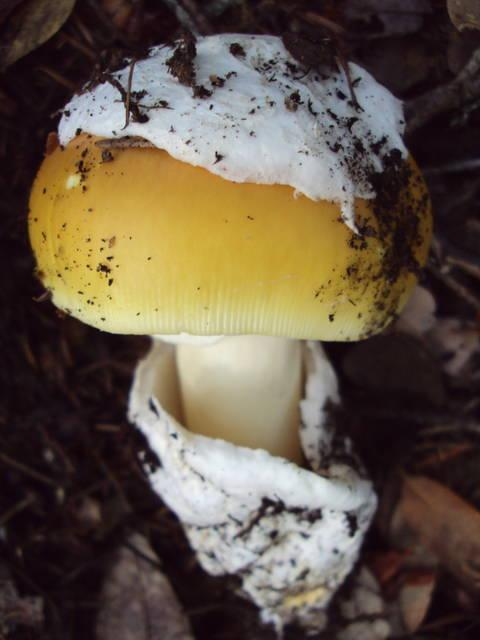Edible Mushroom: (25, 29, 434, 636)
